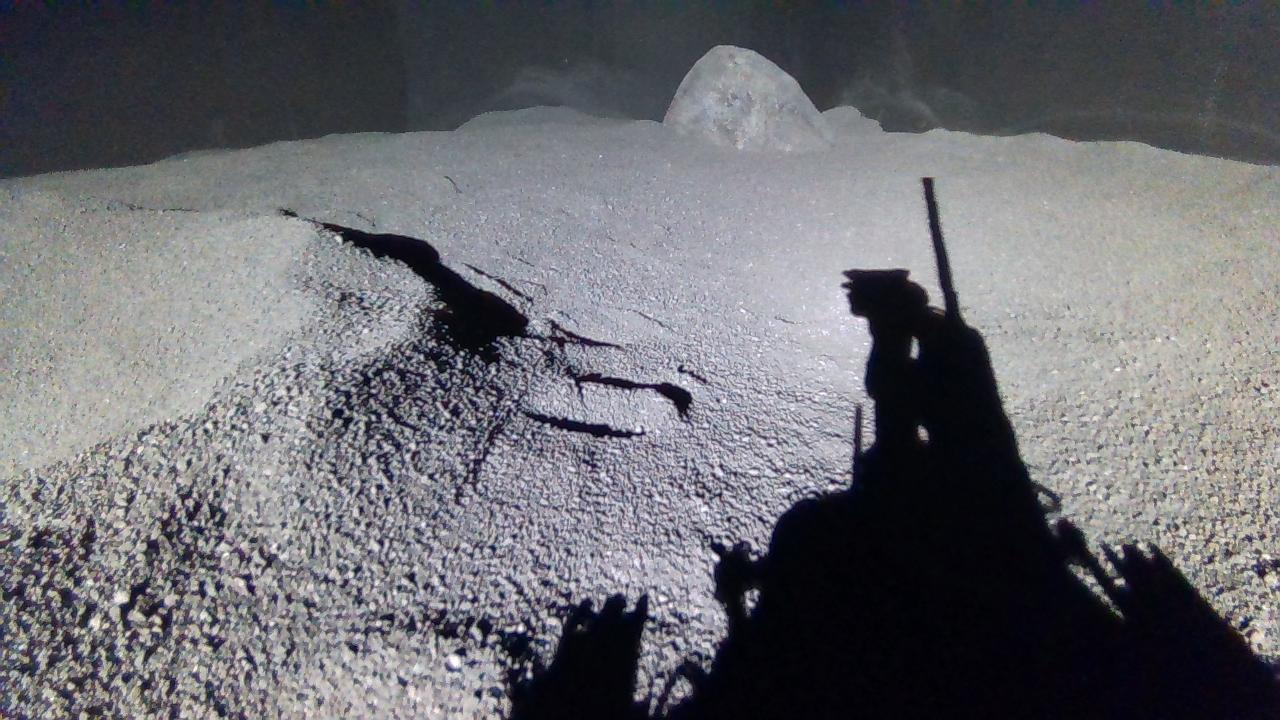rock: (665, 44, 833, 151)
